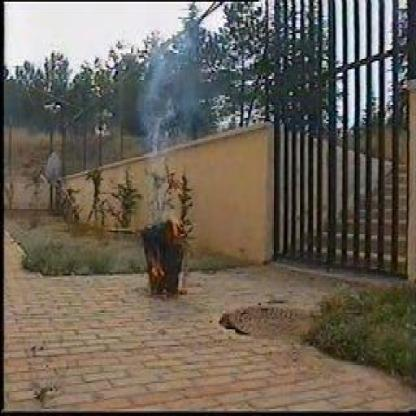-: (137, 64, 184, 167)
foggia-v2-map80-epoch100 - v1 4323: (148, 215, 182, 288)
